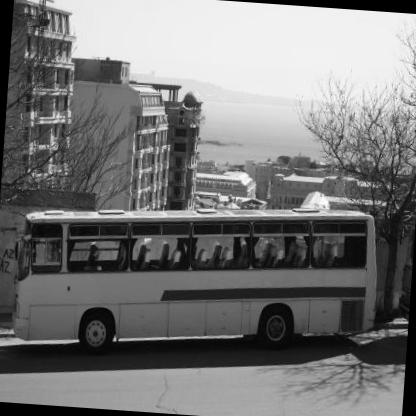bus: (4, 184, 414, 369)
